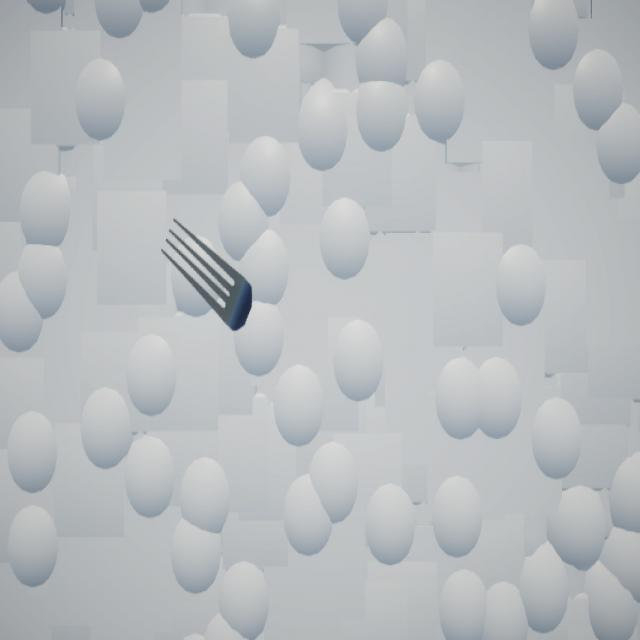top_folk: (162, 219, 253, 332)
